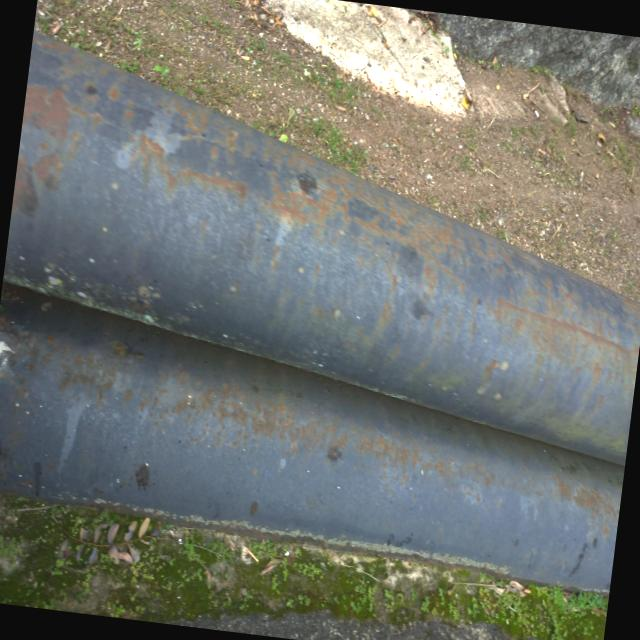gas: (3, 33, 640, 459), (0, 291, 624, 588)
